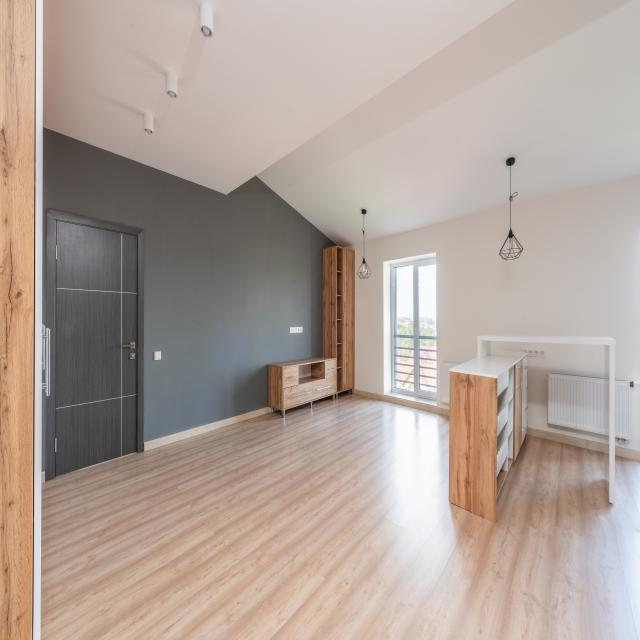floor: (40, 392, 640, 640)
wall: (42, 127, 338, 443), (343, 175, 640, 451), (491, 341, 610, 441)
